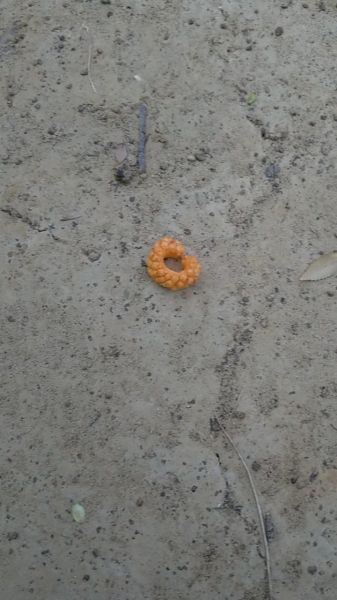eggs: (140, 234, 210, 293)
